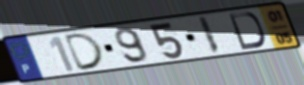1: (48, 35, 75, 73)
5: (147, 19, 186, 60)
9: (113, 27, 151, 64)
D: (63, 31, 107, 73), (227, 11, 267, 51)
I: (196, 15, 223, 56)
